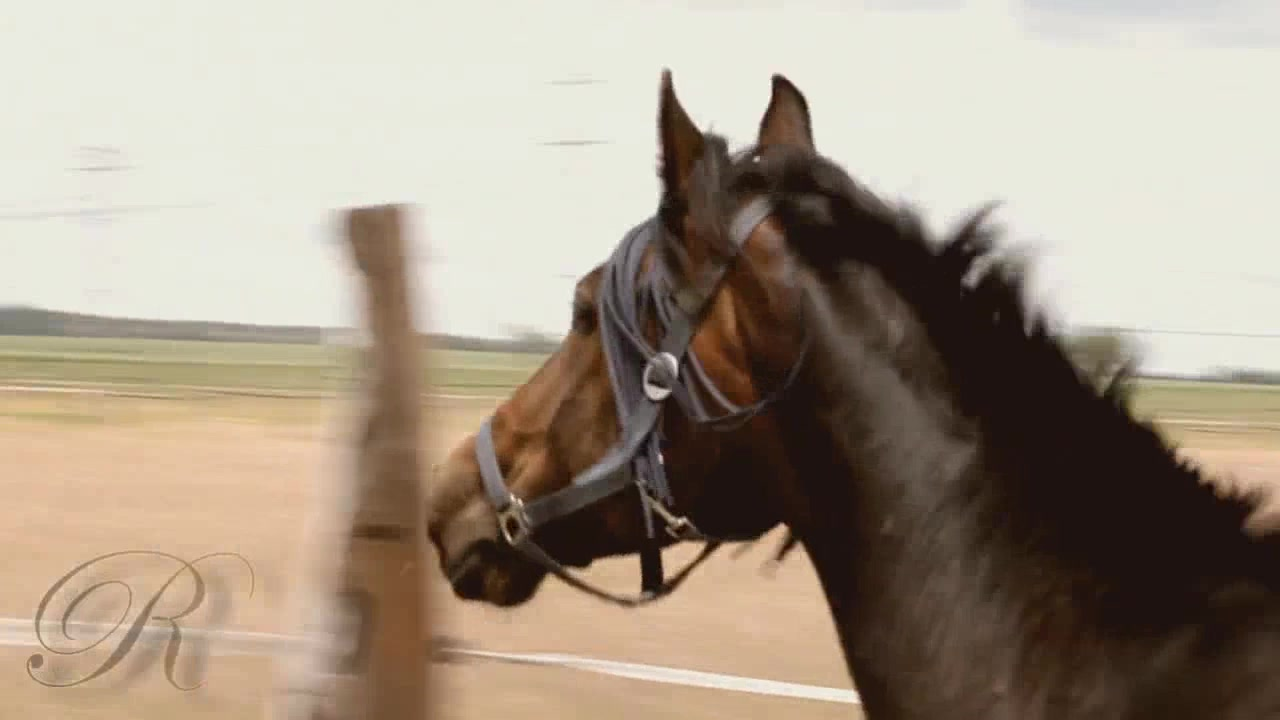horse: (423, 68, 1280, 720)
